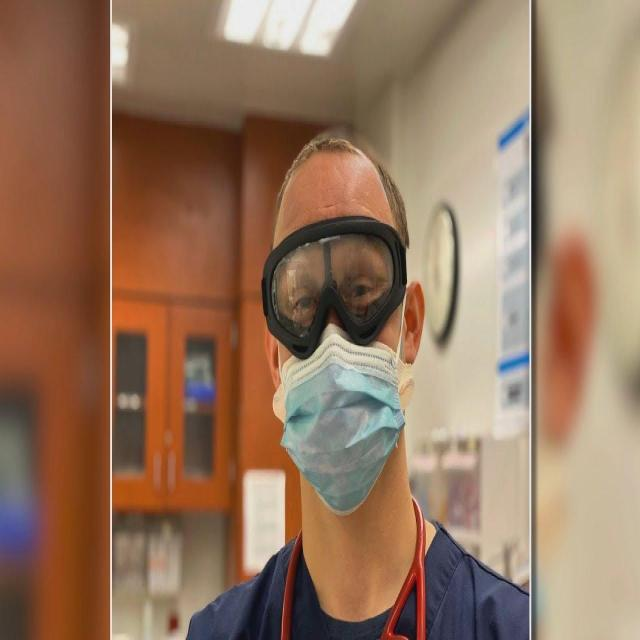Goggles: (259, 215, 409, 343)
Mask: (282, 338, 403, 505)
